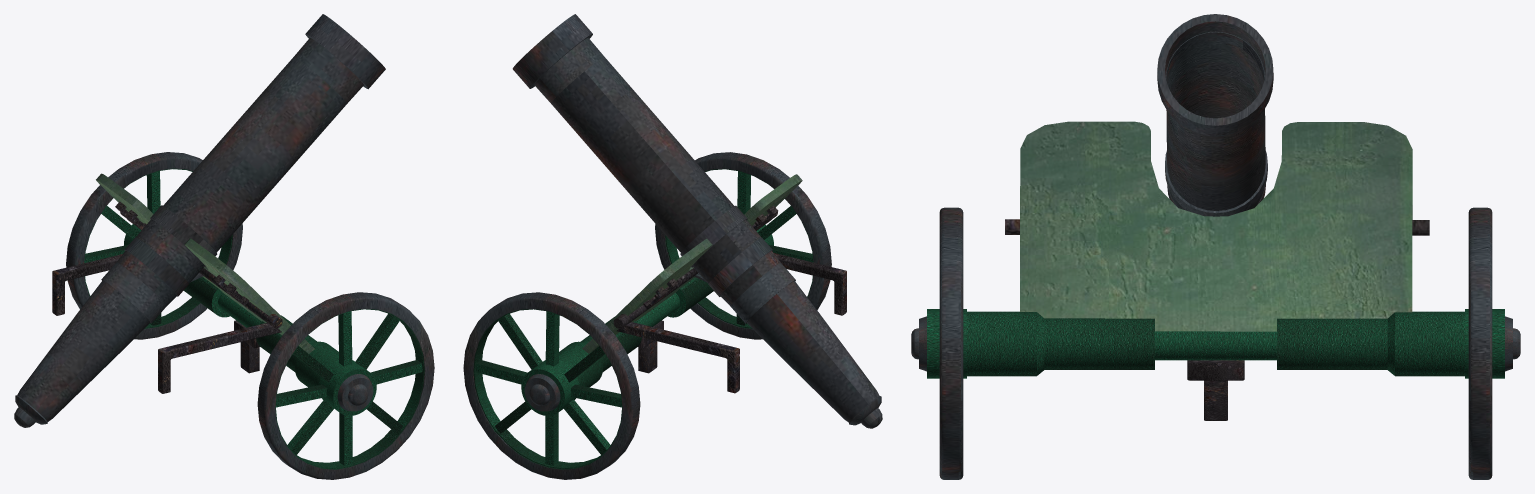
Rendered from Mortar.fbx.
3 views of the same model, side by side, from view 1: azimuth 30°, elevation 25°; view 2: azimuth 150°, elevation 25°; view 3: azimuth 270°, elevation 25° (orthographic). The views are drawn at different scales.
Parts seen in each view (by area): view 1: tirebody.001; view 2: tirebody.001; view 3: tirebody.001.
Boxes of the visible parts, x1,y1,x2,y2 form: tirebody.001: (14,14,434,479); tirebody.001: (463,14,882,479); tirebody.001: (911,14,1520,479).
Bounding box in the file's own units: 8.17 × 7.93 × 8.64.
